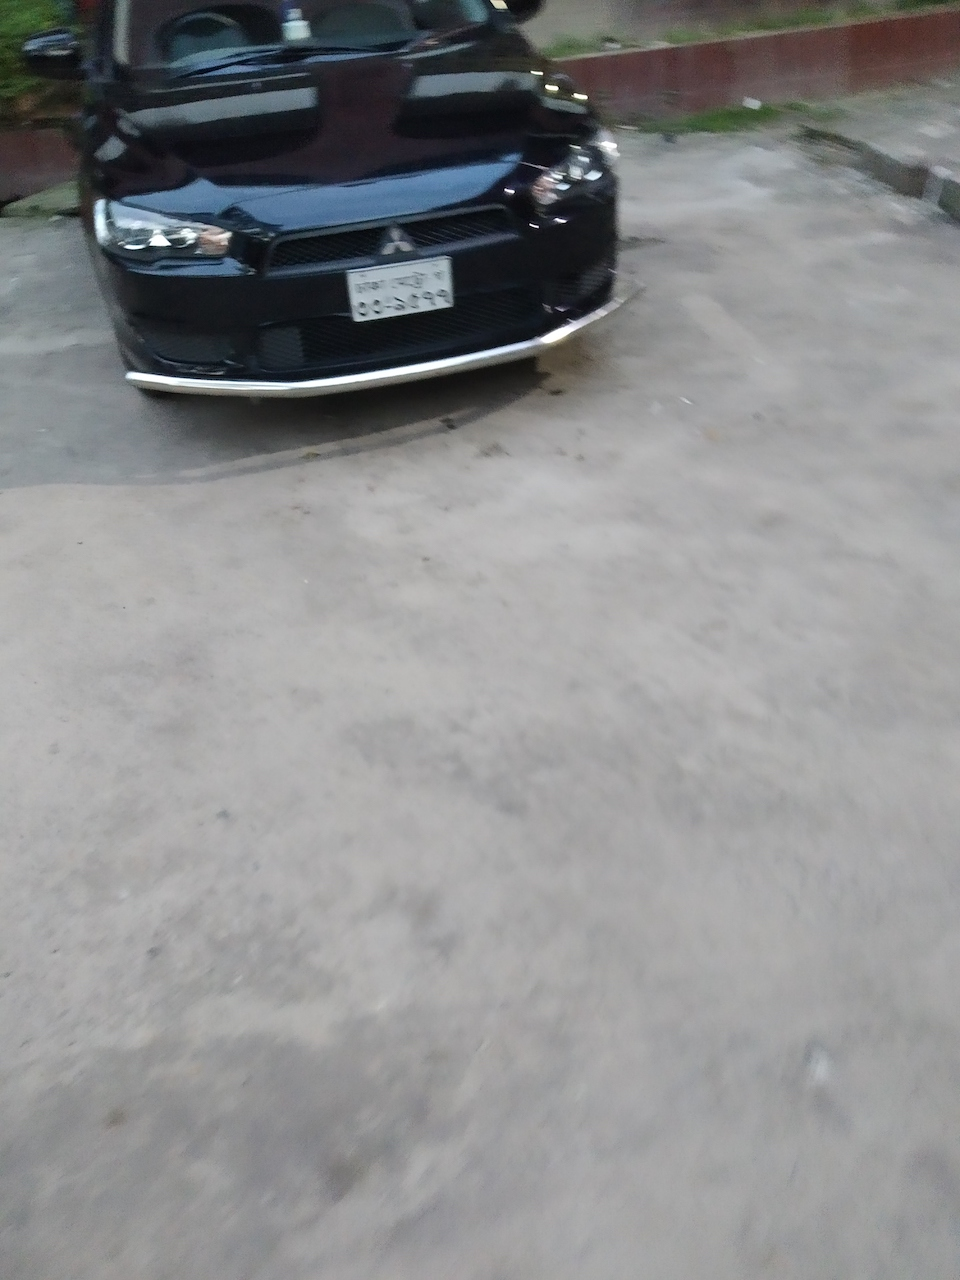registration_plate: (345, 255, 454, 322)
